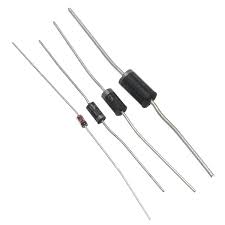diode: (116, 62, 170, 108)
